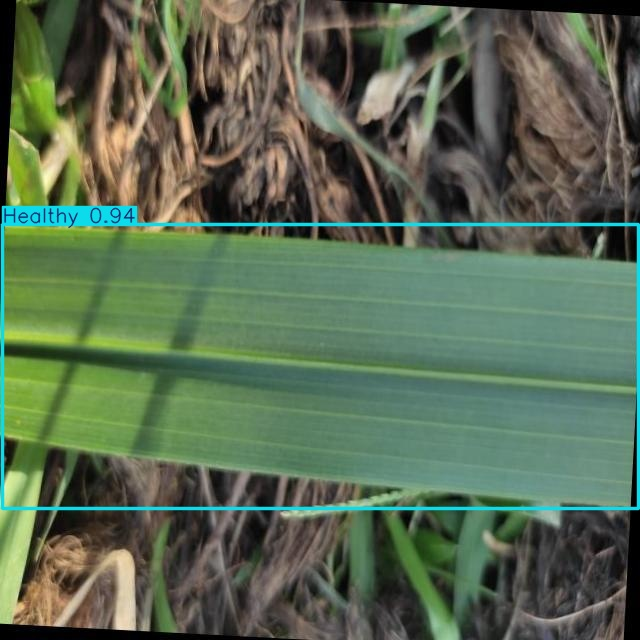Healthy: (3, 224, 639, 508)
